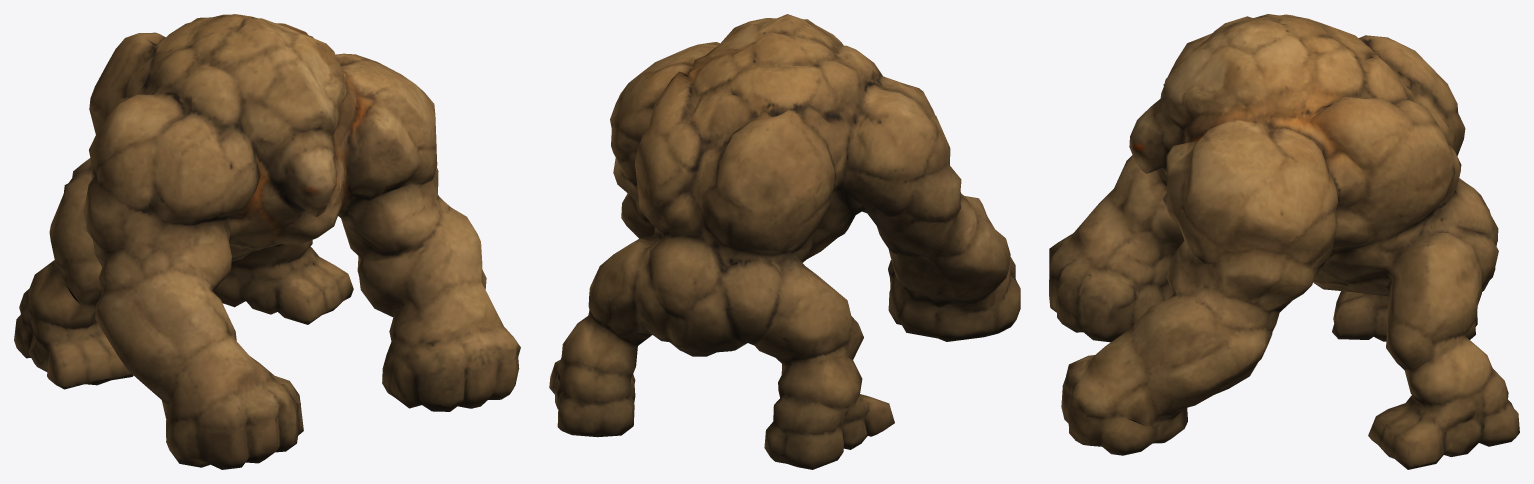
File: sunbaked_colossus_v2.glb
The picture shows the model from 3 angles, left to right: view 1: azimuth 30°, elevation 25°; view 2: azimuth 150°, elevation 25°; view 3: azimuth 270°, elevation 25°; orthographic projection. The views are drawn at different scales.
Parts seen in each view (by area): view 1: sunbaked-colossus-m0-4000-v1; view 2: sunbaked-colossus-m0-4000-v1; view 3: sunbaked-colossus-m0-4000-v1.
Part boxes in pixels (left/top/right/bottom): sunbaked-colossus-m0-4000-v1: left=14, top=14, right=520, bottom=469; sunbaked-colossus-m0-4000-v1: left=549, top=14, right=1020, bottom=469; sunbaked-colossus-m0-4000-v1: left=1049, top=14, right=1519, bottom=469.
Bounding box in the file's own units: 0.9201 × 0.8629 × 1.
Materials: 1 (1 with a texture image).
